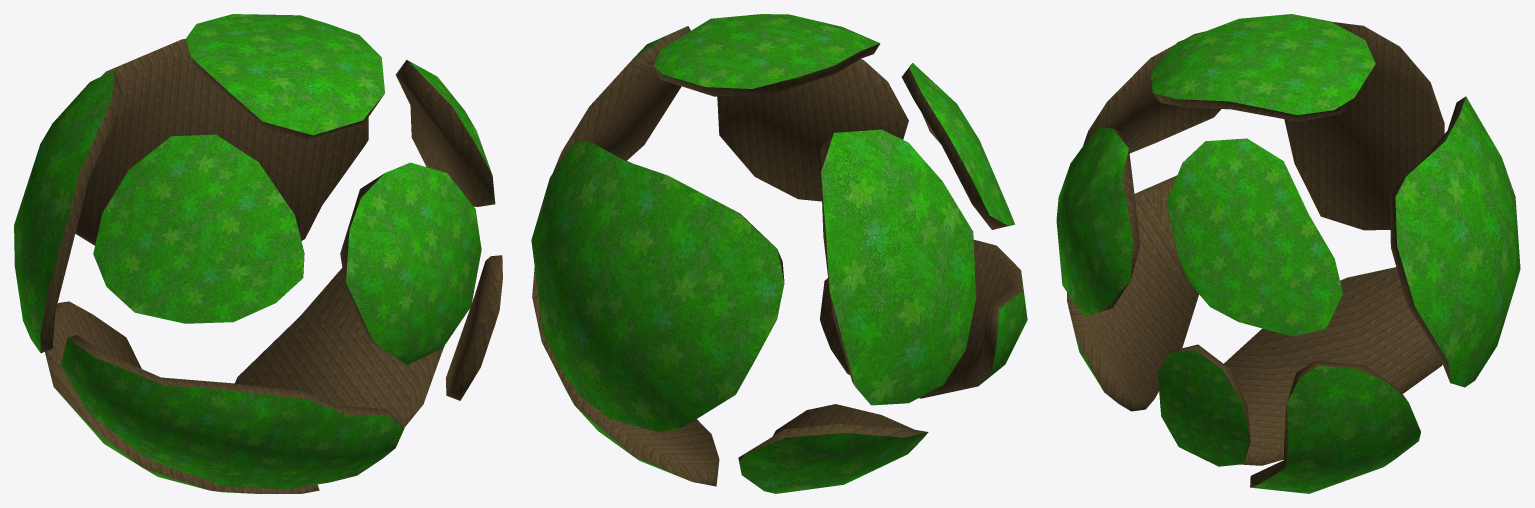
The model's file is HikeGardenBoulderCutPlanetLow.fbx.
3 renders of one model, left to right at view 1: azimuth 30°, elevation 25°; view 2: azimuth 150°, elevation 25°; view 3: azimuth 270°, elevation 25°, orthographic. The views are drawn at different scales.
Parts seen in each view (by area): view 1: Sphere.001, Sphere.000; view 2: Sphere.001, Sphere.000; view 3: Sphere.001, Sphere.000.
Part boxes in pixels (x1,y1,x2,y2): Sphere.001: (14,14,497,493); Sphere.000: (40,39,502,493); Sphere.001: (531,14,1027,493); Sphere.000: (532,26,1022,486); Sphere.001: (1056,14,1520,493); Sphere.000: (1067,21,1465,487).
Bounding box in the file's own units: 201931 × 196435 × 198364.
